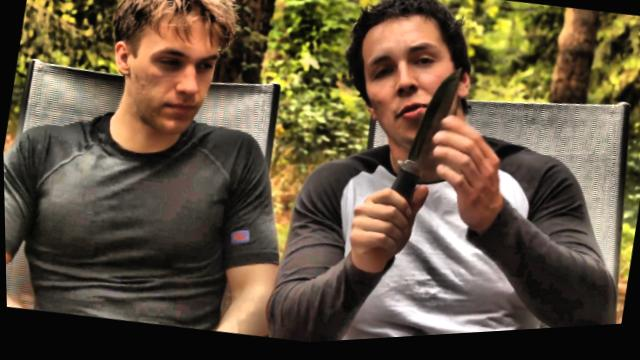knife: (360, 51, 478, 241)
